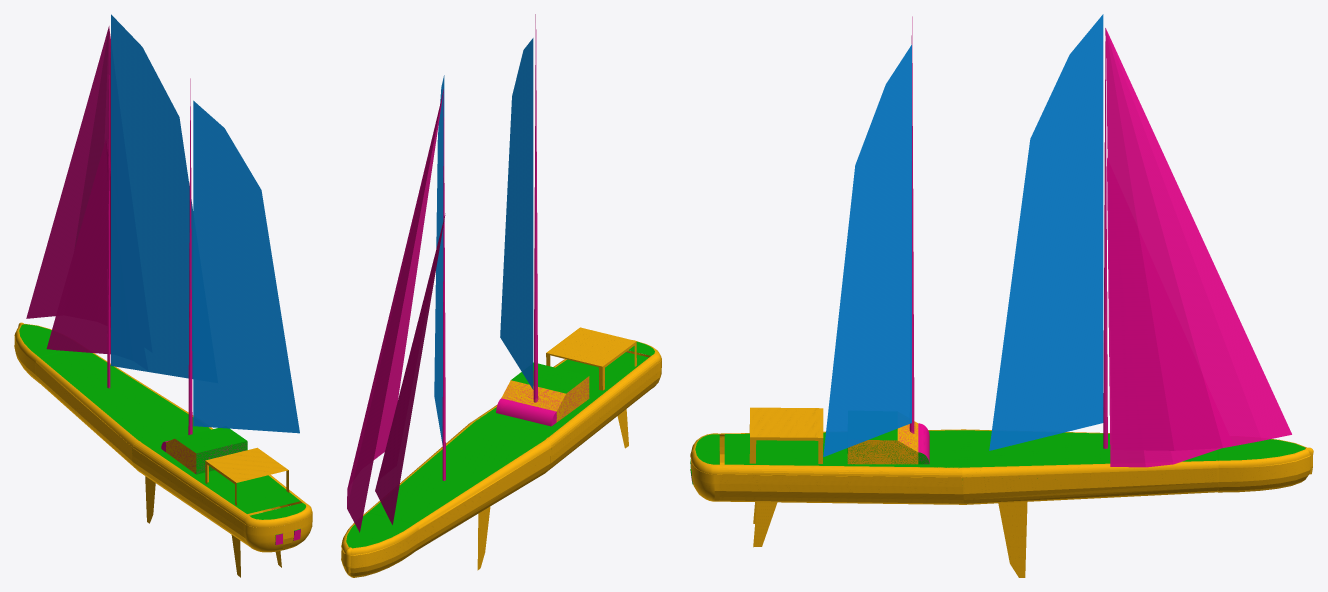
File: TARA_GENNAKER_BABORD.dae
3 renders of one model, left to right at view 1: azimuth 30°, elevation 25°; view 2: azimuth 150°, elevation 25°; view 3: azimuth 270°, elevation 25°, orthographic. The views are drawn at different scales.
Parts seen in each view (by area): view 1: SketchUp (×13); view 2: SketchUp (×14); view 3: SketchUp (×10).
Part boxes in pixels (x1,y1,x2,y2): SketchUp (×13): [14, 14, 312, 552]; SketchUp (×14): [341, 14, 661, 577]; SketchUp (×10): [691, 14, 1313, 577].
Size of the model in its own units: 37574 by 162265 by 161513.
